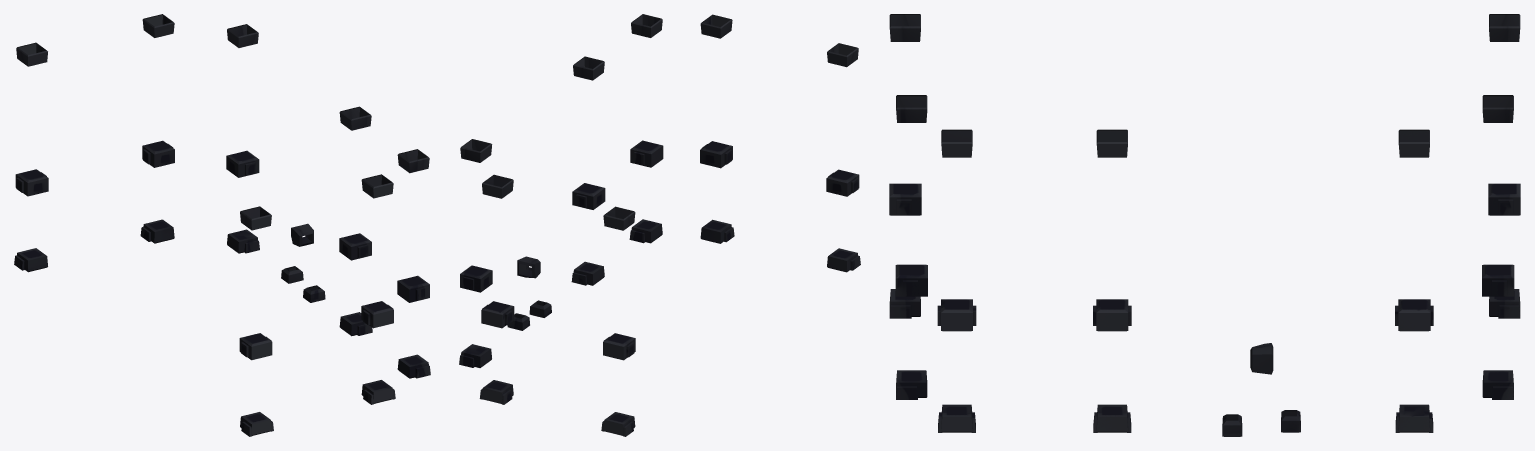
The model's file is Wall_03.FBX.
3 renders of one model, left to right at view 1: azimuth 30°, elevation 25°; view 2: azimuth 150°, elevation 25°; view 3: azimuth 270°, elevation 25°, orthographic. The views are drawn at different scales.
Visible parts, largest first — view 1: Wall_03; view 2: Wall_03; view 3: Wall_03.
Boxes of the visible parts, bbox=[...] form: Wall_03: bbox=[14, 14, 430, 436]; Wall_03: bbox=[459, 14, 860, 436]; Wall_03: bbox=[889, 14, 1520, 436].
Size of the model in its own units: 12.73 by 13.3 by 25.79.
